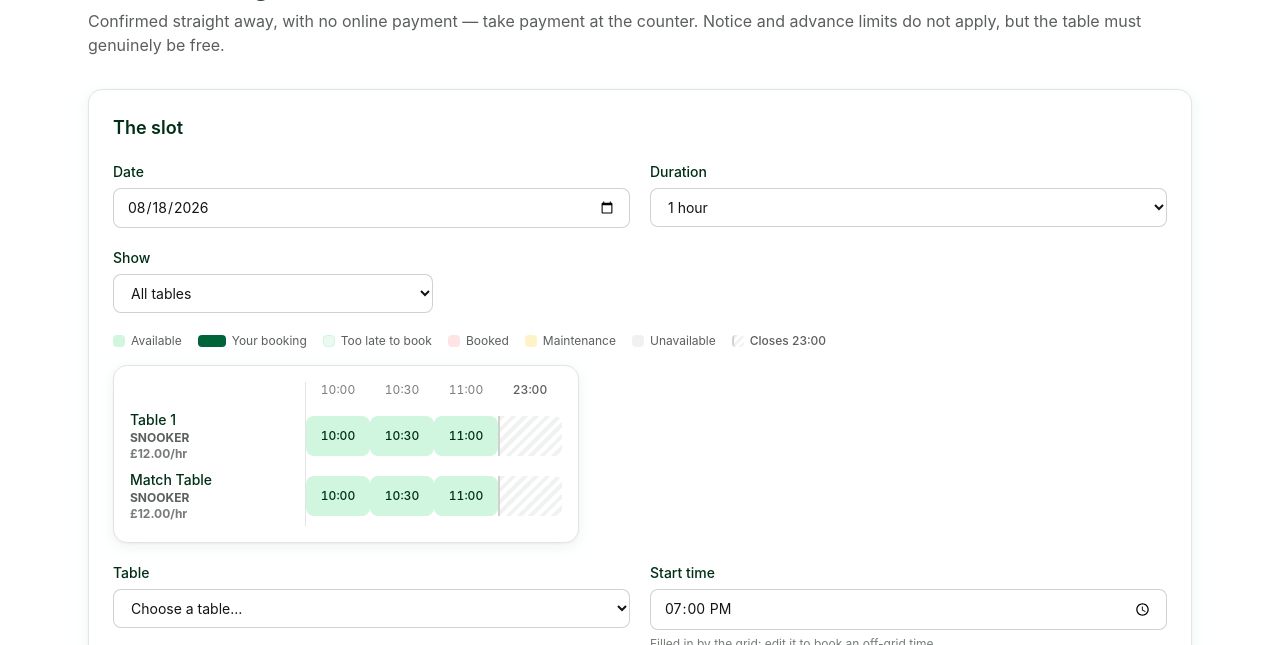
Test: AdminTelephoneBookingPage › takes the booking’s length from a second click on the row
Click the button named "10:00 — available" at (338, 436), box [306,416,370,456]
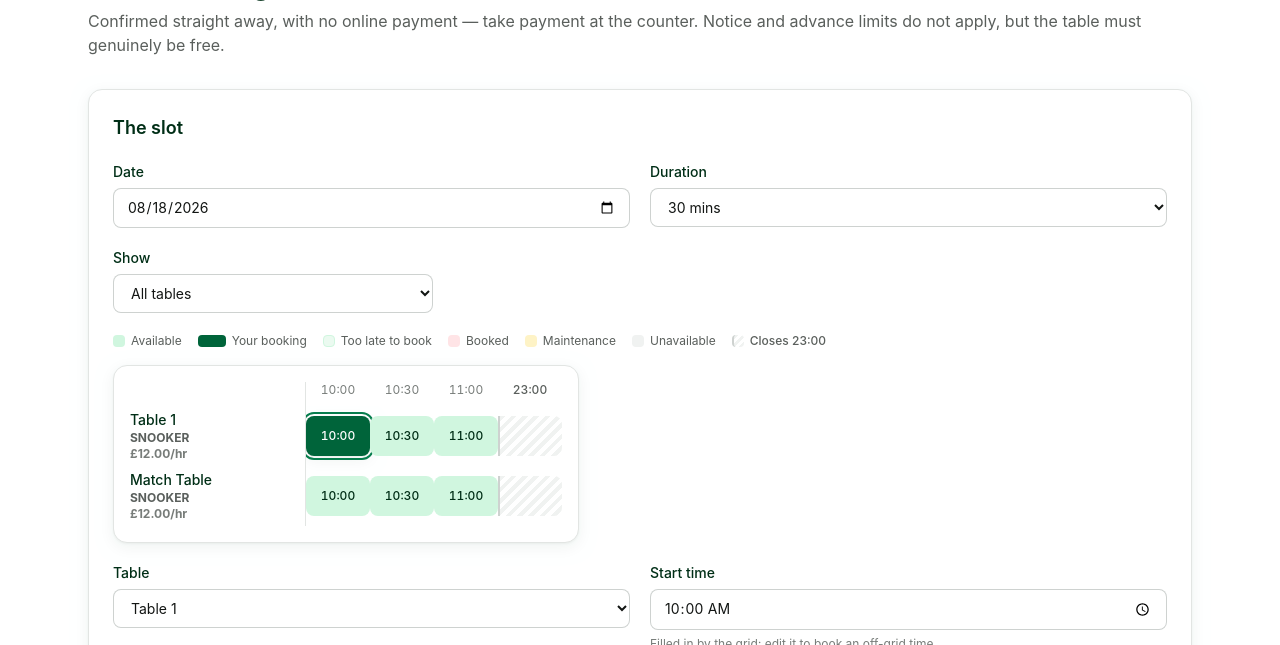
Click the 1st button "11:00" at (466, 436), box [434,416,498,456]
(page scrolled)
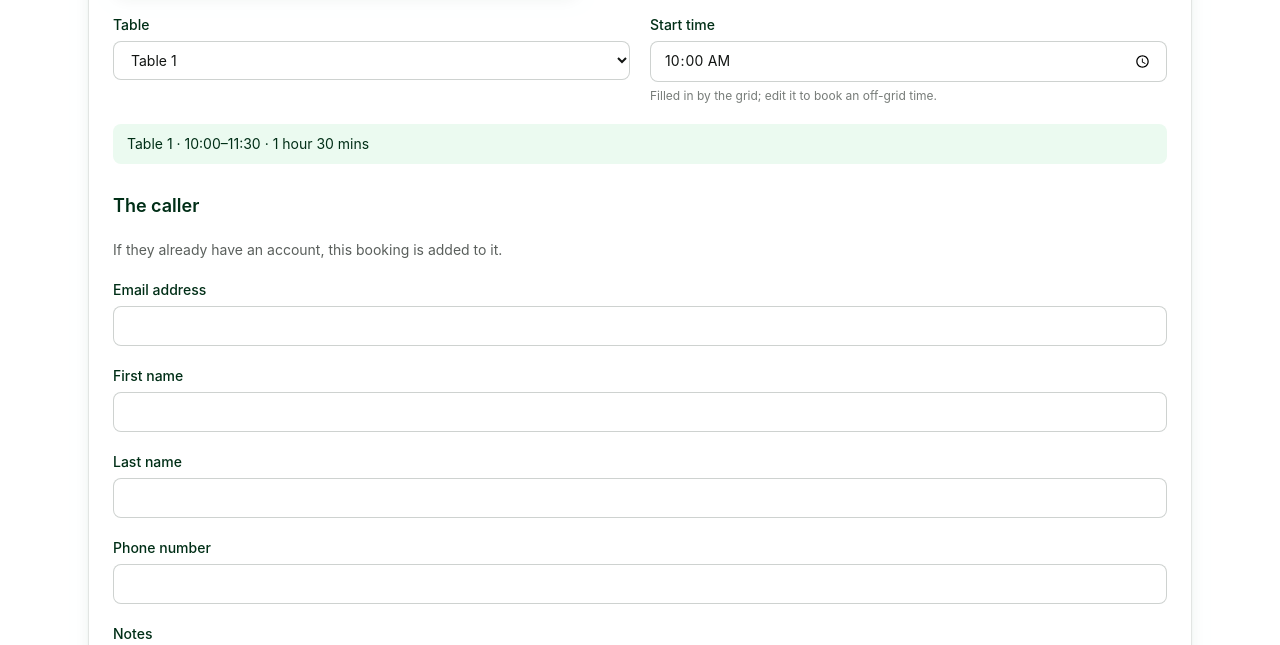
Type "caller@example.test" into the field labelled "Email address" at (640, 326), box [113,306,1167,346]
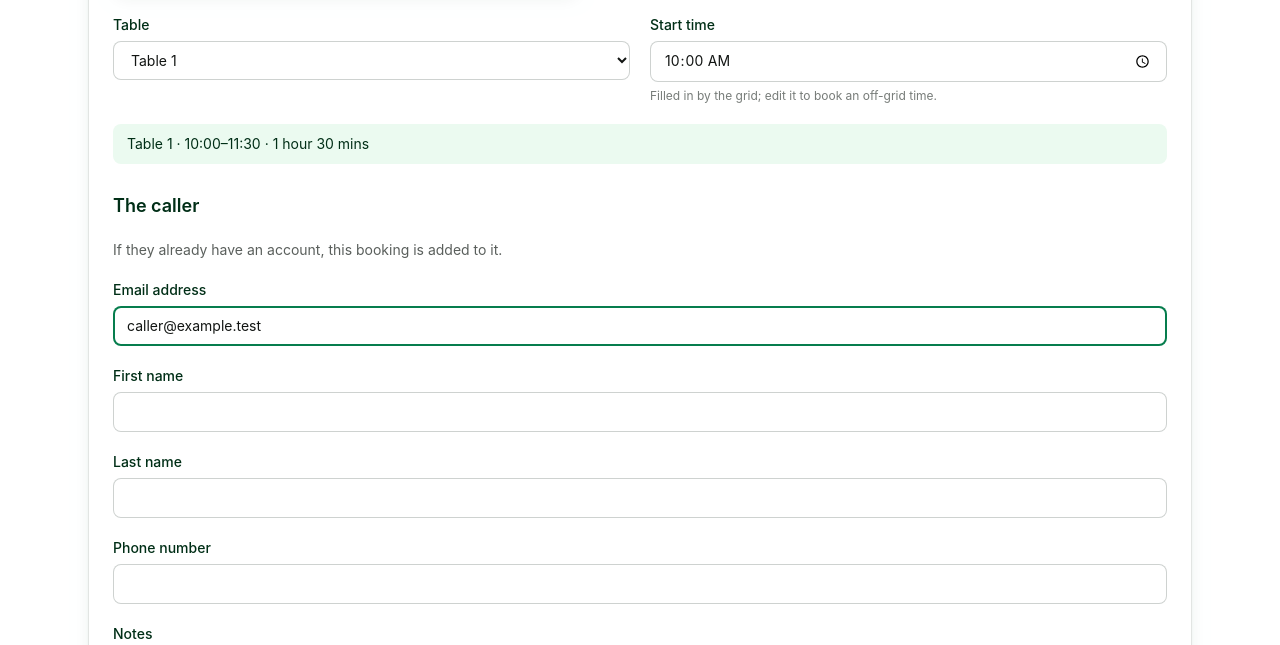
Type "Phone" into the field labelled "First name" at (640, 412), box [113,392,1167,432]
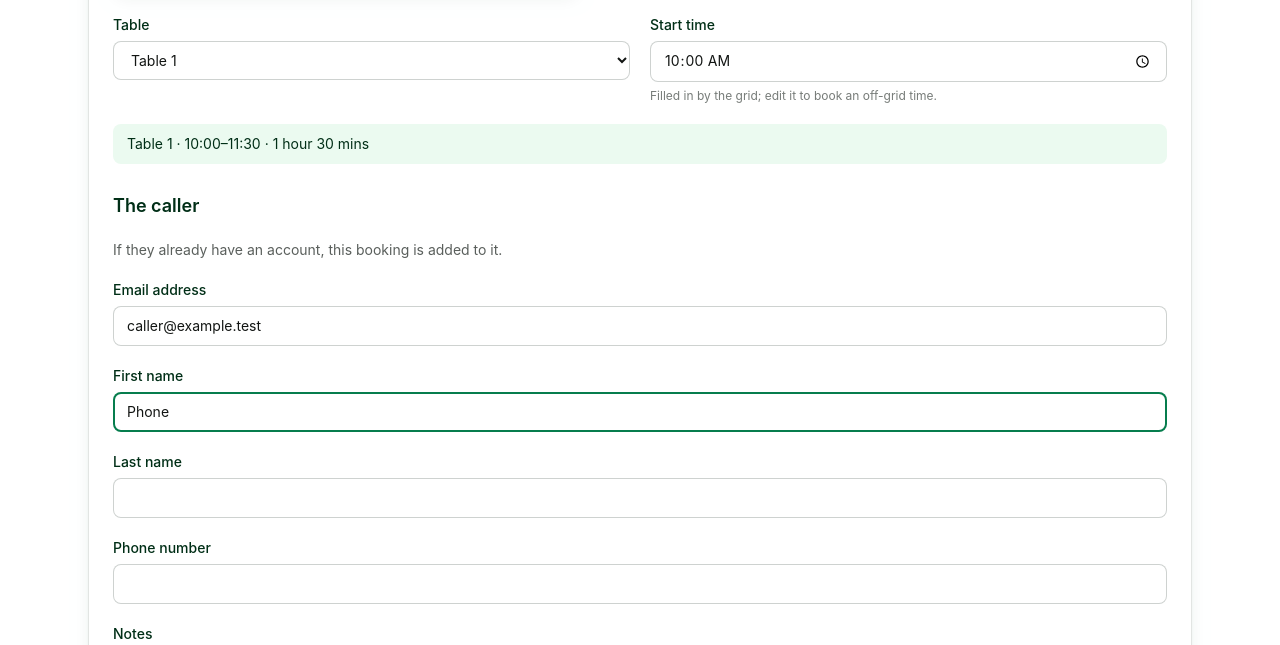
Type "Caller" into the field labelled "Last name" at (640, 498), box [113,478,1167,518]
(page scrolled)
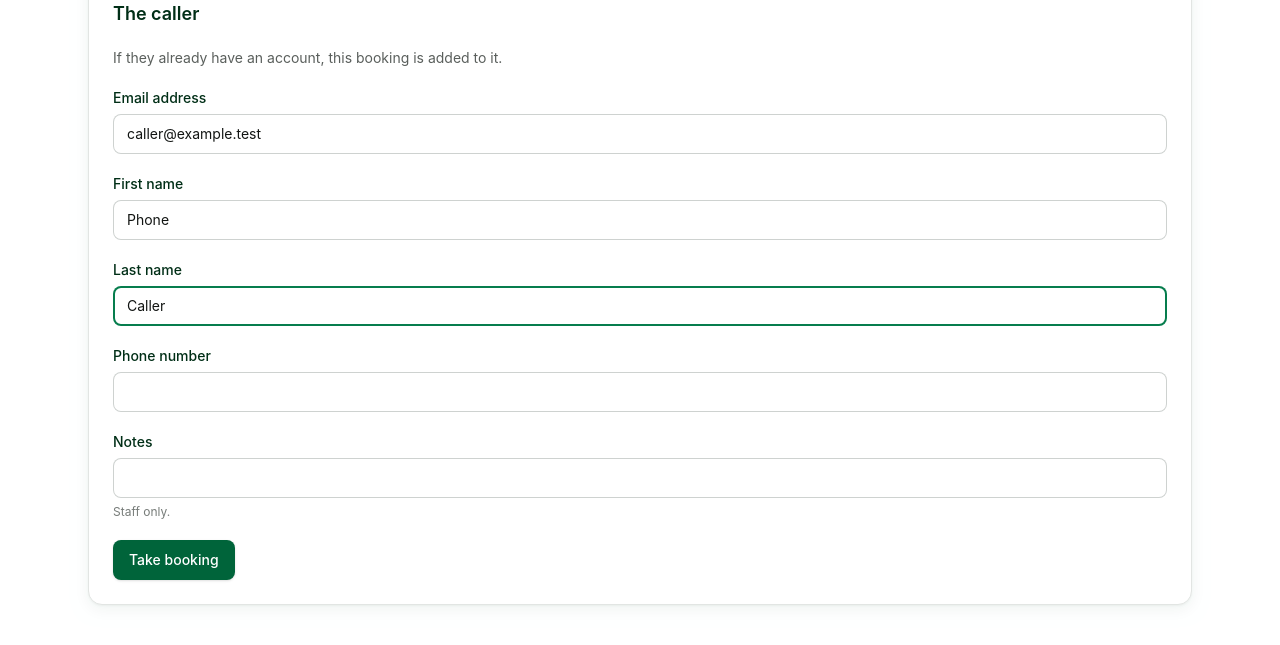
Click the button "Take booking" at (174, 560), box [113,540,235,580]
(page scrolled)
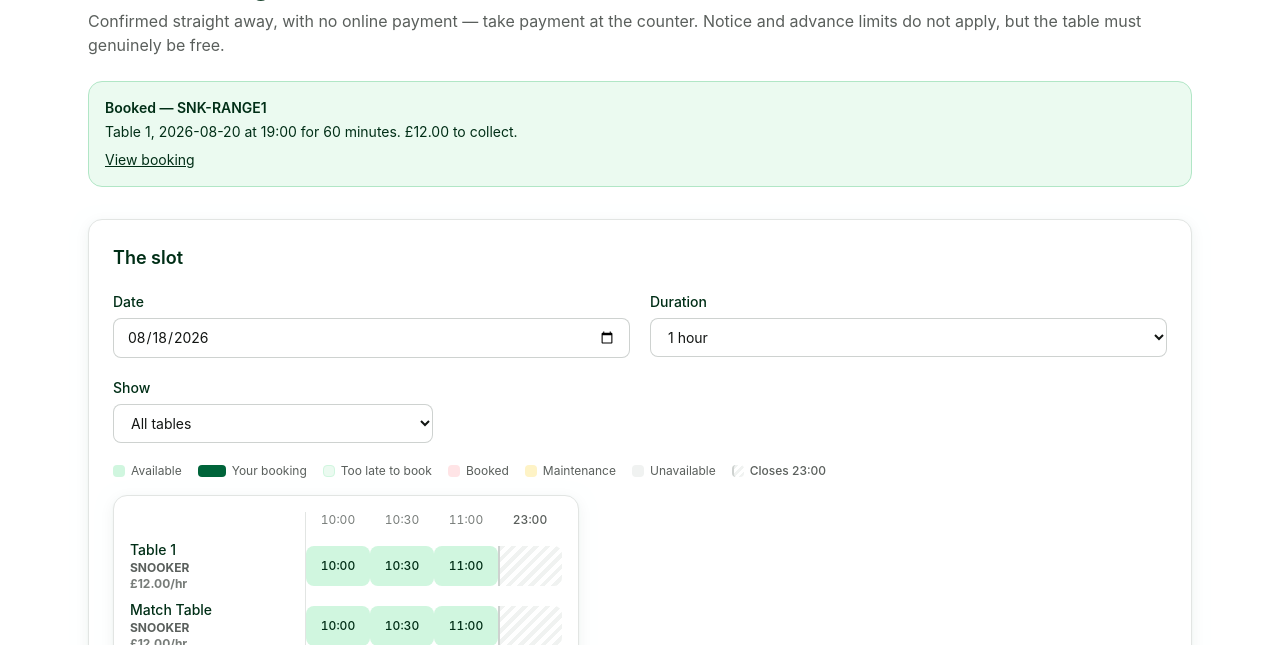
Now the text "Booked — SNK-RANGE1" is shown, box [105,99,267,116]
